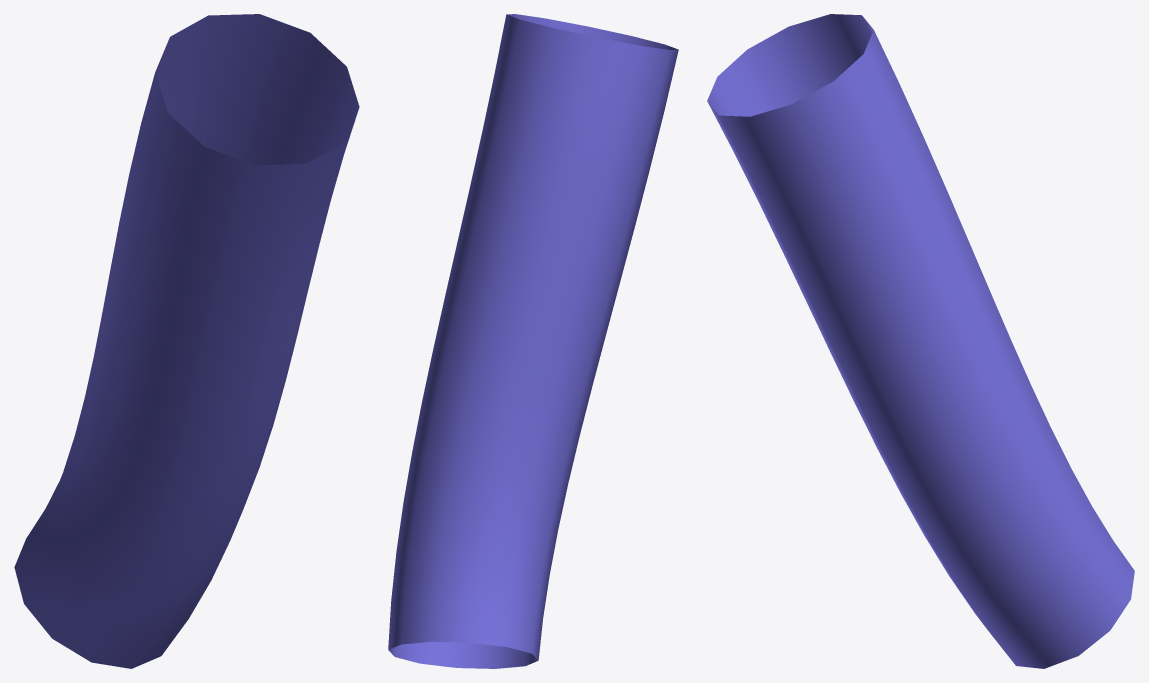
Rendered from Internal_iliac_vein.r_BezierCurve.084.glb.
3 renders of one model, left to right at view 1: azimuth 30°, elevation 25°; view 2: azimuth 150°, elevation 25°; view 3: azimuth 270°, elevation 25°, orthographic. The views are drawn at different scales.
Parts seen in each view (by area): view 1: Internal_iliac_vein.r_BezierCurve.084; view 2: Internal_iliac_vein.r_BezierCurve.084; view 3: Internal_iliac_vein.r_BezierCurve.084.
Boxes of the visible parts, left/top/right/bottom form: Internal_iliac_vein.r_BezierCurve.084: left=14, top=14, right=359, bottom=668; Internal_iliac_vein.r_BezierCurve.084: left=388, top=14, right=678, bottom=668; Internal_iliac_vein.r_BezierCurve.084: left=707, top=14, right=1134, bottom=668.
Bounding box in the file's own units: 0.00729 × 0.0261 × 0.0163.
